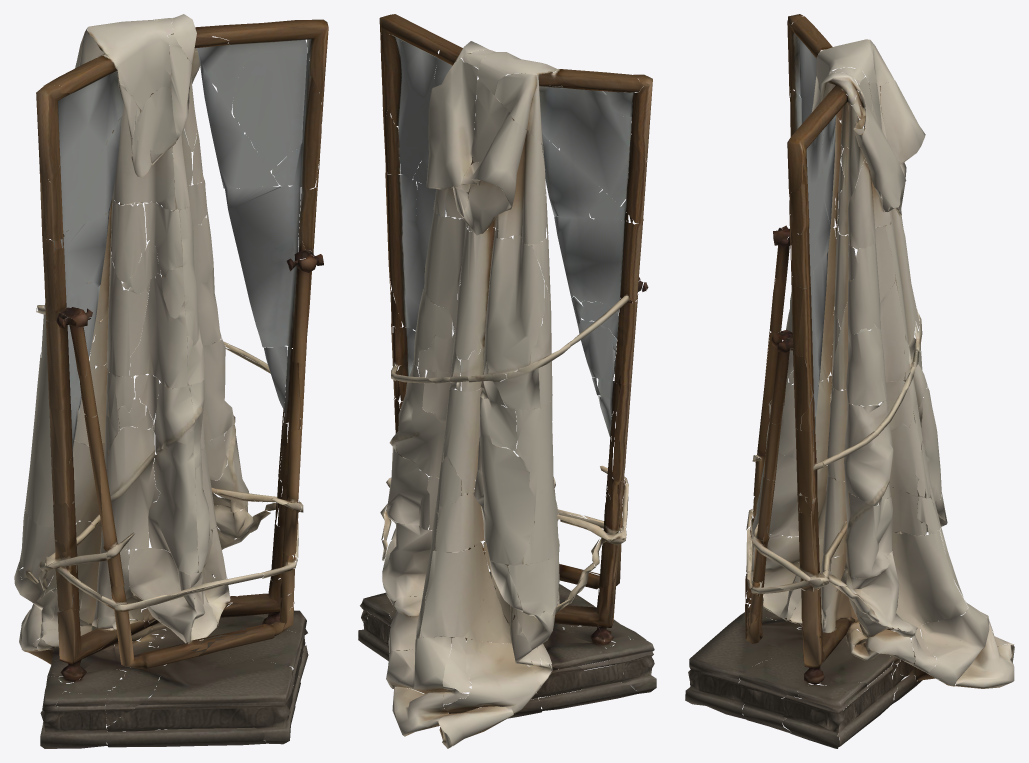
File: shroud_b.glb
The picture shows the model from 3 angles, left to right: view 1: azimuth 30°, elevation 25°; view 2: azimuth 150°, elevation 25°; view 3: azimuth 270°, elevation 25°; orthographic projection. The views are drawn at different scales.
Parts seen in each view (by area): view 1: tripo_node_857323ee-2958-467b-9c48-8d446feda75f; view 2: tripo_node_857323ee-2958-467b-9c48-8d446feda75f; view 3: tripo_node_857323ee-2958-467b-9c48-8d446feda75f.
Part boxes in pixels (x1,y1,x2,y2): tripo_node_857323ee-2958-467b-9c48-8d446feda75f: (14, 14, 328, 748); tripo_node_857323ee-2958-467b-9c48-8d446feda75f: (358, 14, 656, 748); tripo_node_857323ee-2958-467b-9c48-8d446feda75f: (685, 14, 1014, 748).
Size of the model in its own units: 0.4582 by 0.9994 by 0.4811.
1 material, 1 textured.
